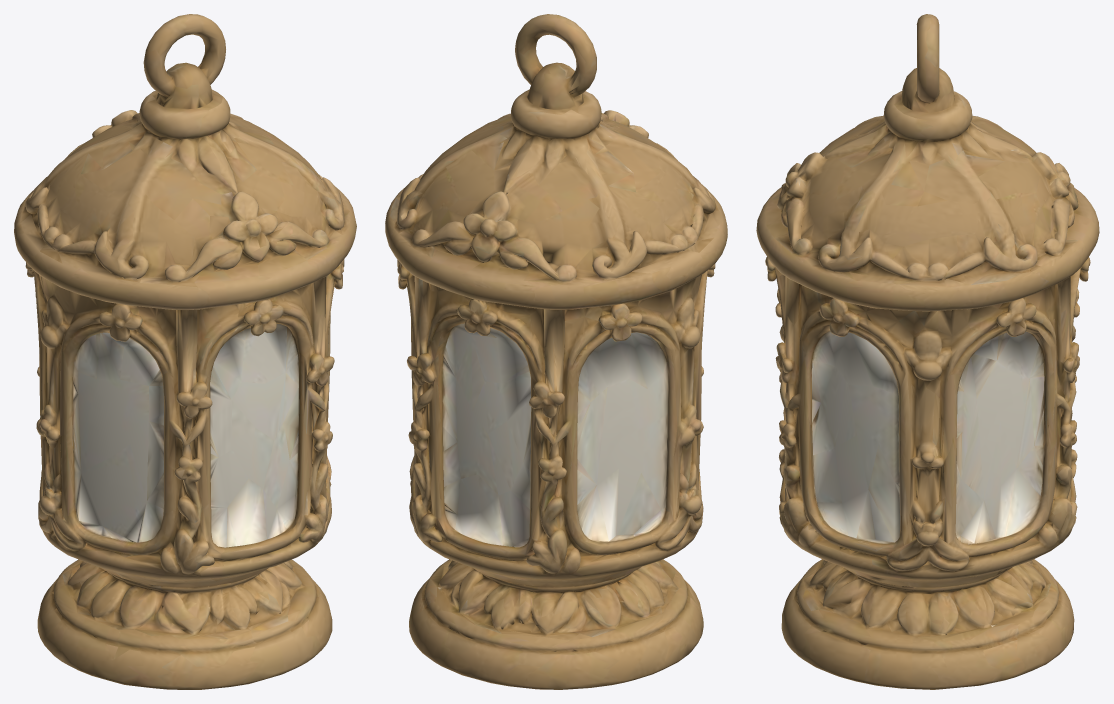
3 renders of one model, left to right at view 1: azimuth 30°, elevation 25°; view 2: azimuth 150°, elevation 25°; view 3: azimuth 270°, elevation 25°, orthographic.
Bounding box in the file's own units: 0.9754 × 1.9 × 0.9688.
1 material, 1 textured.
